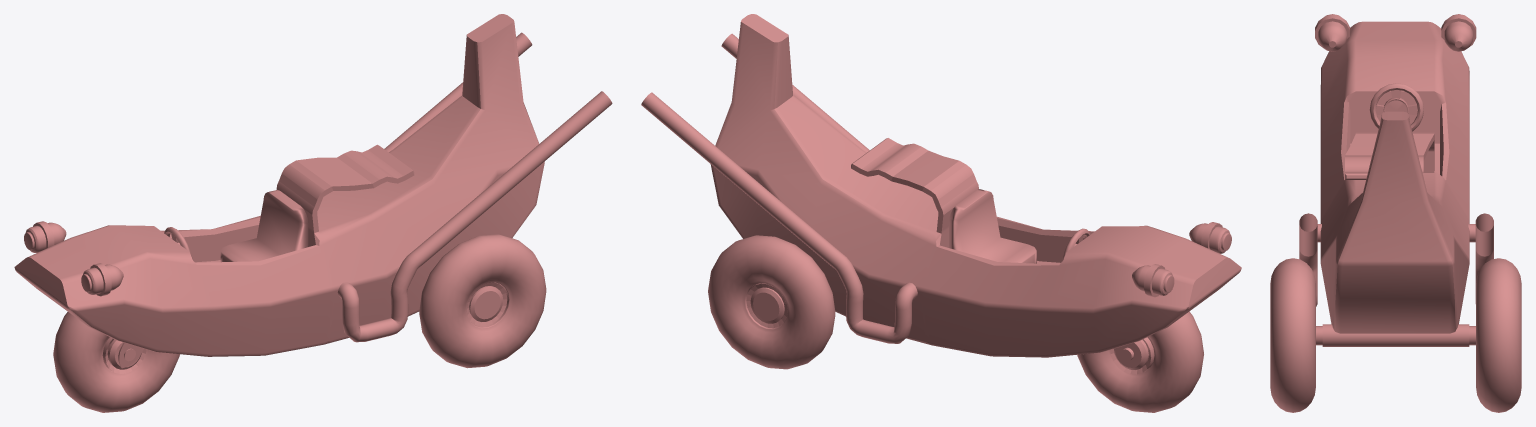
Rendered from Bcar4.fbx.
3 renders of one model, left to right at view 1: azimuth 30°, elevation 25°; view 2: azimuth 150°, elevation 25°; view 3: azimuth 270°, elevation 25°, orthographic. The views are drawn at different scales.
Parts seen in each view (by area): view 1: BCar1; view 2: BCar1; view 3: BCar1.
Boxes of the visible parts, x1,y1,x2,y2 form: BCar1: (14, 14, 612, 412); BCar1: (641, 14, 1241, 412); BCar1: (1270, 14, 1521, 412).
Bounding box in the file's own units: 1192 × 636 × 445.
